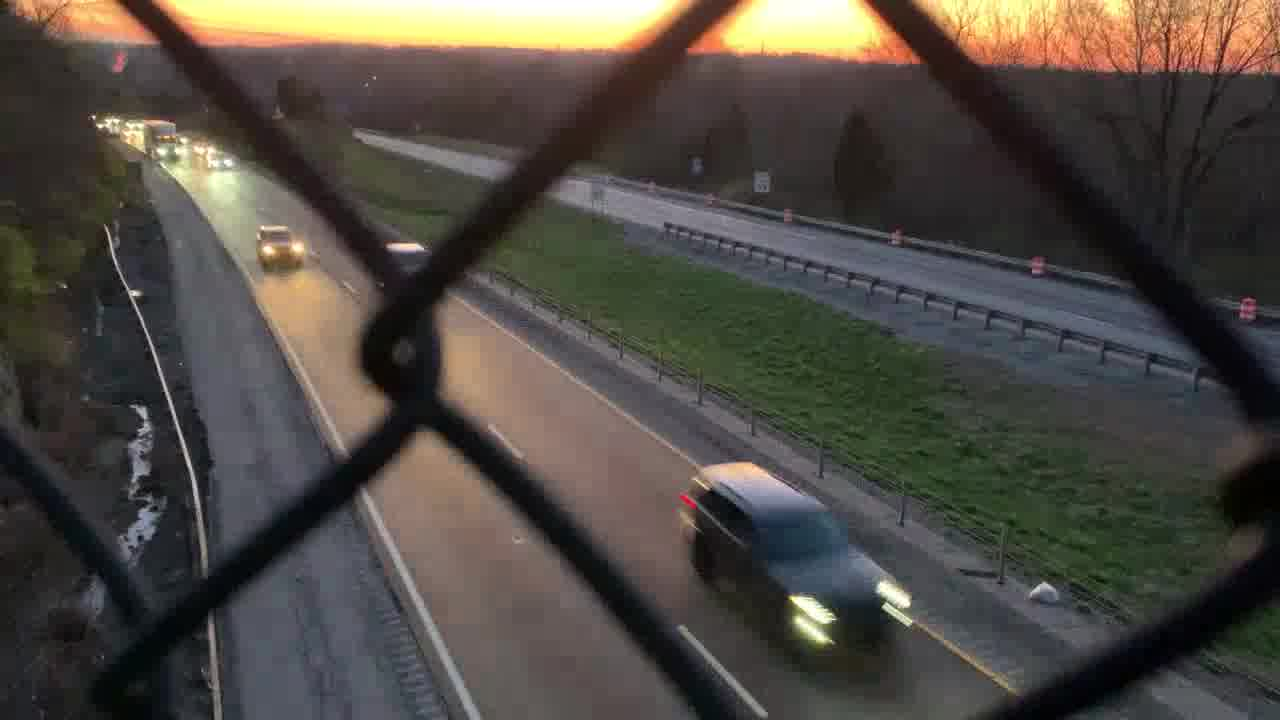largeCar: (679, 458, 914, 663)
